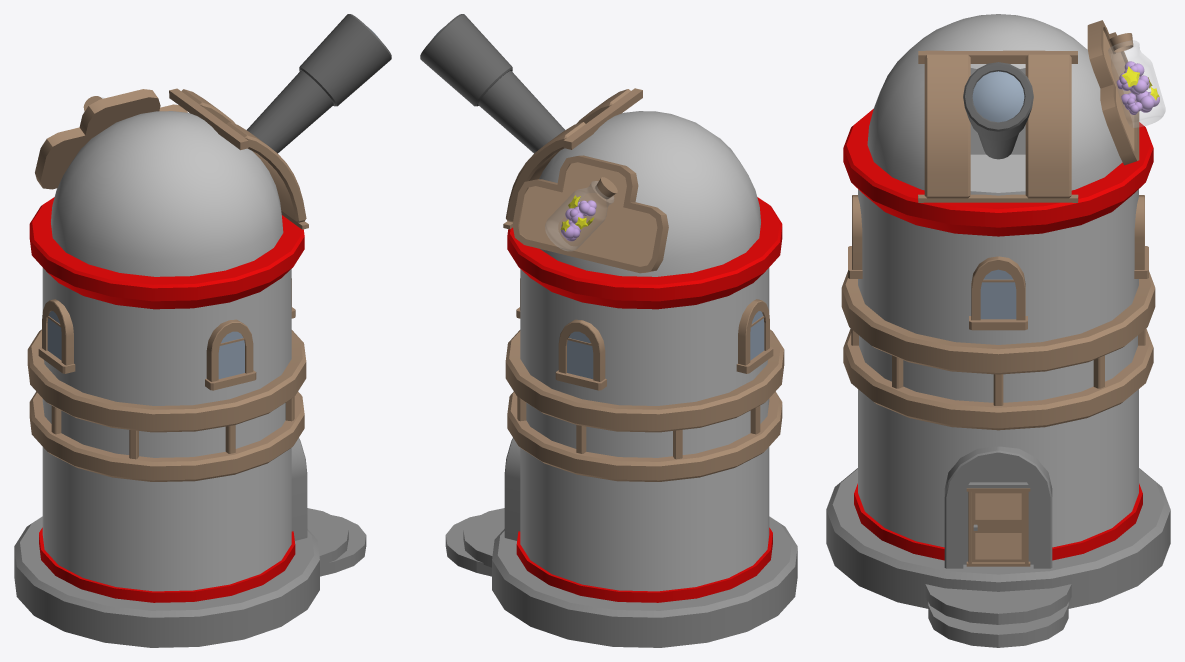
Rendered from observatory.fbx.
The picture shows the model from 3 angles, left to right: view 1: azimuth 30°, elevation 25°; view 2: azimuth 150°, elevation 25°; view 3: azimuth 270°, elevation 25°; orthographic projection. The views are drawn at different scales.
Visible parts, largest first — view 1: group2_pCube36; view 2: group2_pCube36; view 3: group2_pCube36.
Boxes of the visible parts, <box> form: group2_pCube36: <box>14,14,391,647</box>; group2_pCube36: <box>420,14,797,647</box>; group2_pCube36: <box>826,14,1170,647</box>.
Size of the model in its own units: 681 by 963 by 515.
